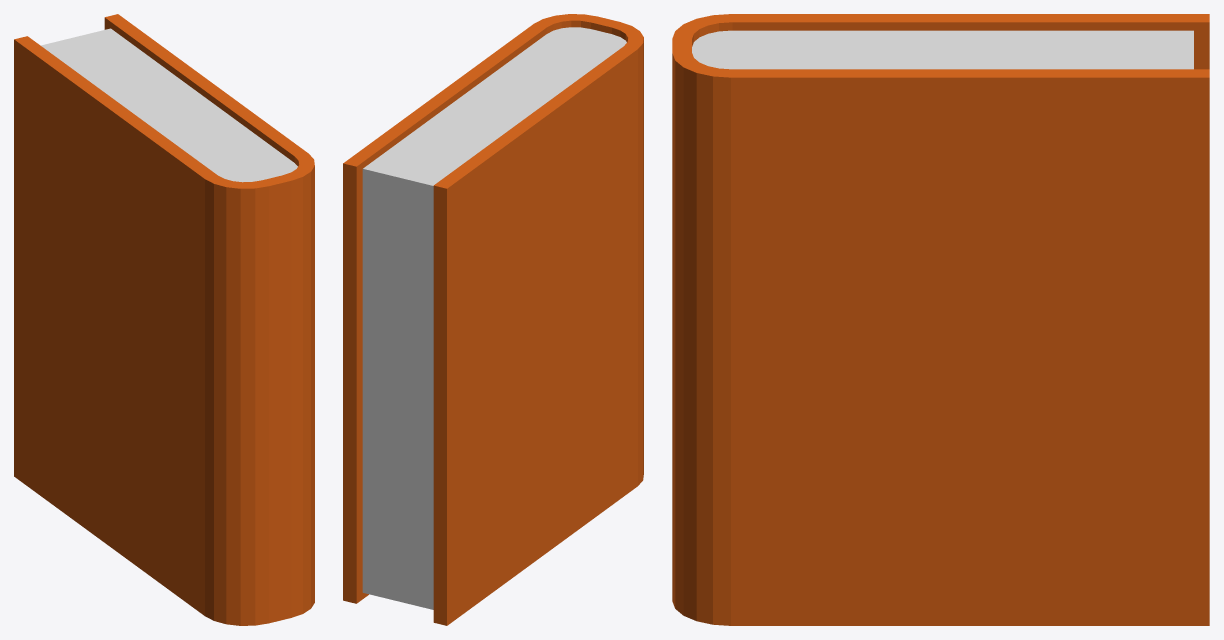
File: Book.fbx
3 views of the same model, side by side, from view 1: azimuth 30°, elevation 25°; view 2: azimuth 150°, elevation 25°; view 3: azimuth 270°, elevation 25° (orthographic). The views are drawn at different scales.
Parts seen in each view (by area): view 1: Cube.006; view 2: Cube.006; view 3: Cube.006.
Boxes of the visible parts, x1,y1,x2,y2 form: Cube.006: (14, 14, 314, 625); Cube.006: (343, 14, 643, 625); Cube.006: (672, 14, 1209, 625).
Bounding box in the file's own units: 17.77 × 71.37 × 63.39.
